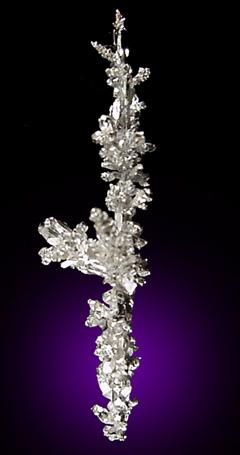silver: (38, 10, 154, 442)
